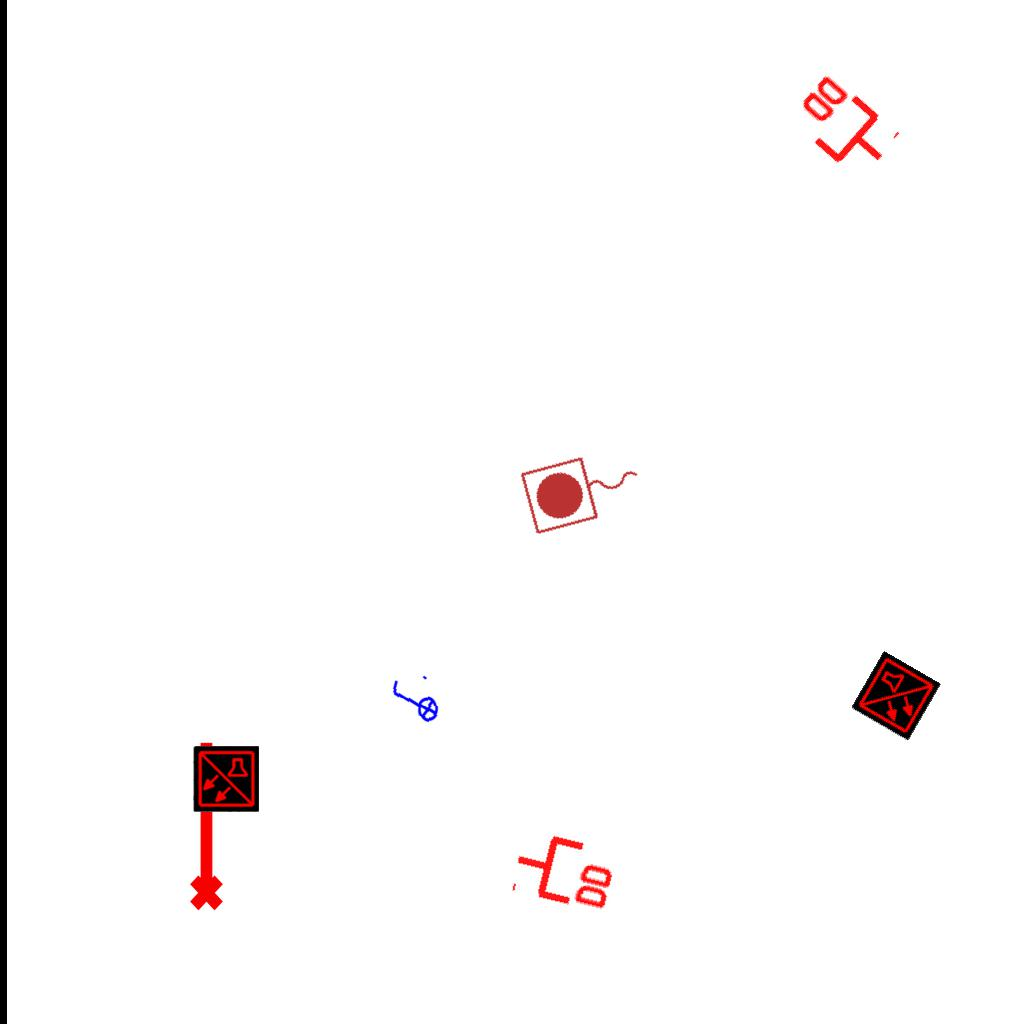ASR_Ansaugoeffnung: (181, 737, 227, 913)
Ausschalter_beleuchtet: (387, 671, 441, 733)
Datenanschluss_zweifach: (780, 67, 905, 188), (507, 823, 624, 916)
OKW_Multisensormelder_(Kombination_optischer_Rauch-Kahlenmonoxid_Waerme-Melder): (850, 650, 942, 742), (193, 746, 259, 812)
Zugtaster: (515, 439, 653, 541)
